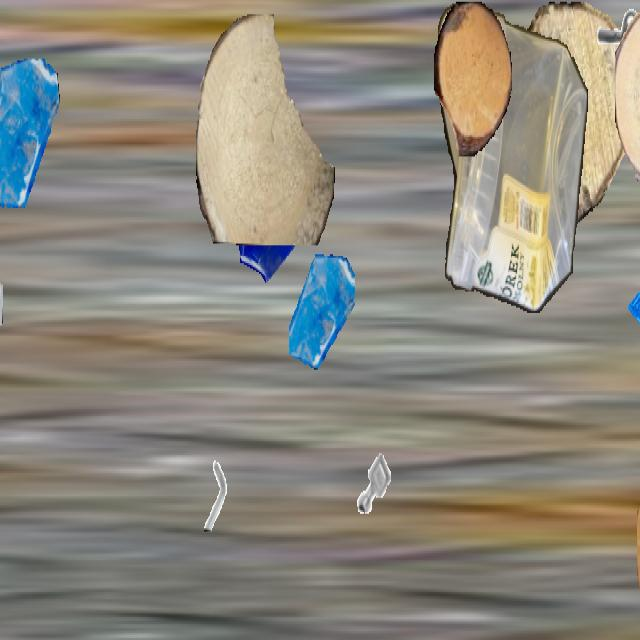glass: (228, 138, 310, 284), (0, 59, 62, 208), (289, 252, 355, 370), (628, 242, 640, 377), (0, 249, 2, 355)
metal: (582, 2, 640, 112), (349, 439, 399, 528), (194, 457, 236, 531)
plastic: (438, 2, 588, 311)
wood: (196, 14, 334, 246), (492, 2, 632, 226), (434, 1, 512, 154), (615, 2, 640, 183), (637, 464, 640, 638)
